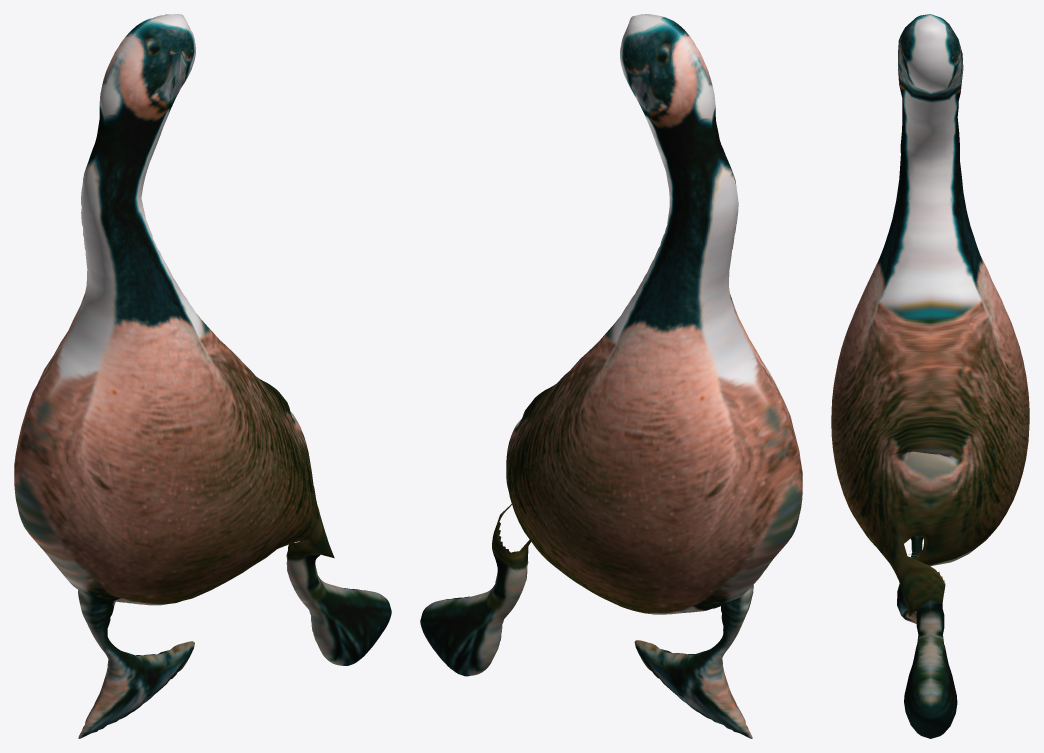
File: mm_mon.glb
3 renders of one model, left to right at view 1: azimuth 30°, elevation 25°; view 2: azimuth 150°, elevation 25°; view 3: azimuth 270°, elevation 25°, orthographic. The views are drawn at different scales.
Size of the model in its own units: 3.08 by 5.58 by 1.57.
Materials: 1 (1 with a texture image).
